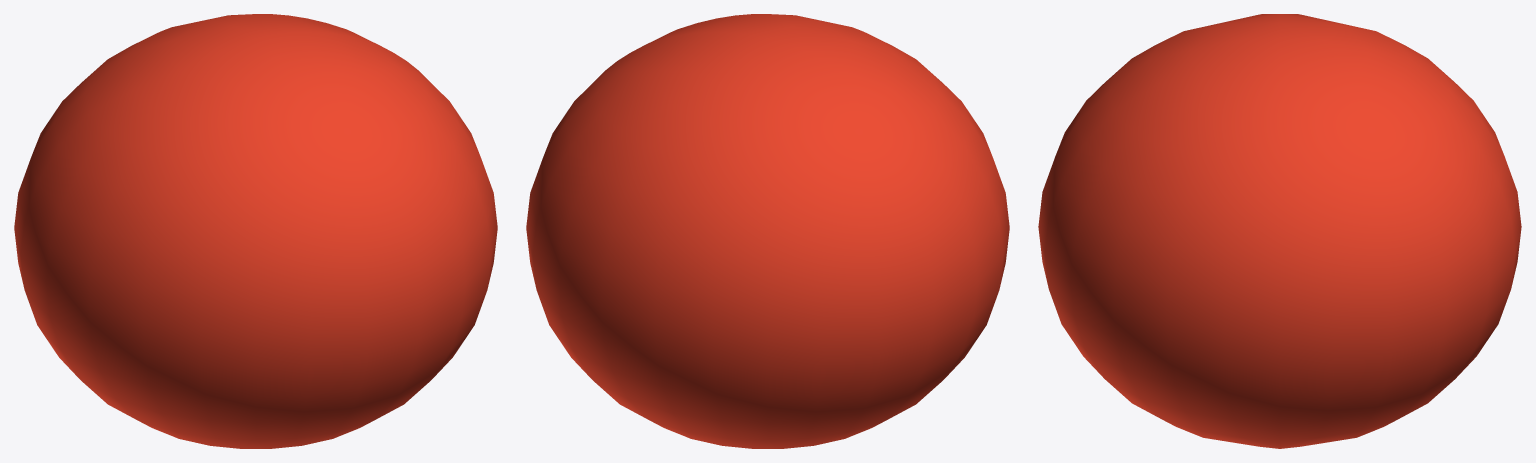
File: a01-buoy-lane-sphere.glb
The picture shows the model from 3 angles, left to right: view 1: azimuth 30°, elevation 25°; view 2: azimuth 150°, elevation 25°; view 3: azimuth 270°, elevation 25°; orthographic projection.
Parts seen in each view (by area): view 1: part0; view 2: part0; view 3: part0.
Boxes of the visible parts, x1,y1,x2,y2 form: part0: (14, 14, 497, 448); part0: (526, 14, 1009, 448); part0: (1038, 14, 1521, 448).
Size of the model in its own units: 300 by 264 by 300.
